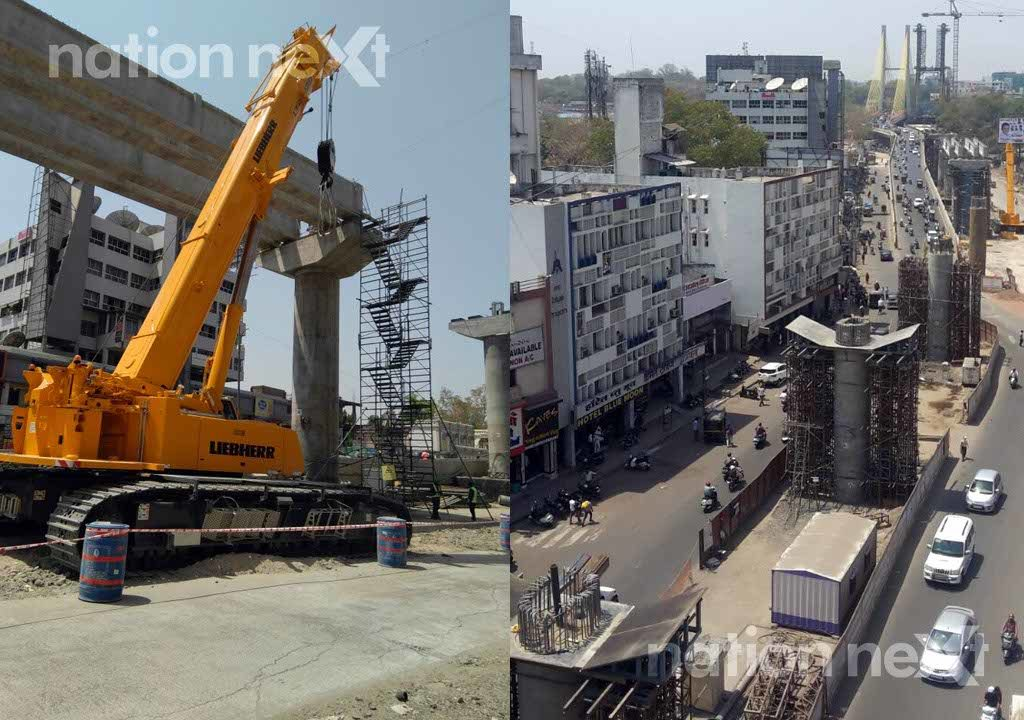crane: (1, 30, 362, 585)
